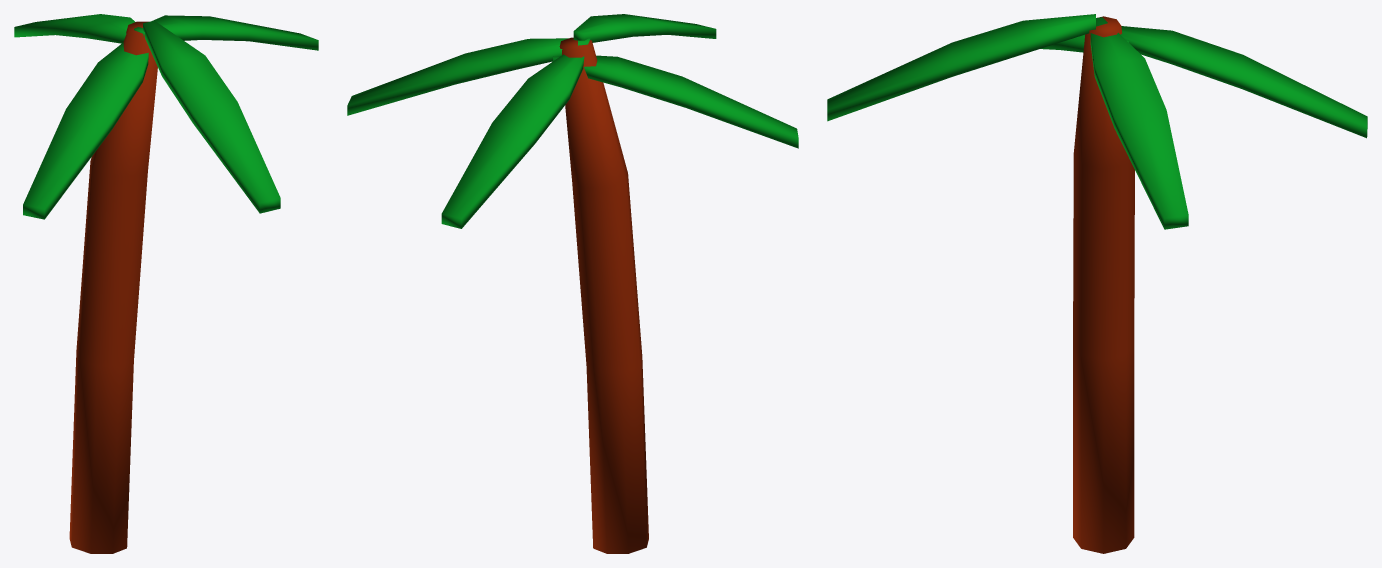
File: LandProp_PalmTree_SandBiom_01.fbx
The picture shows the model from 3 angles, left to right: view 1: azimuth 30°, elevation 25°; view 2: azimuth 150°, elevation 25°; view 3: azimuth 270°, elevation 25°; orthographic projection. The views are drawn at different scales.
Parts seen in each view (by area): view 1: Cube; view 2: Cube; view 3: Cube.
Boxes of the visible parts, left/top/right/bottom form: Cube: left=14, top=14, right=318, bottom=553; Cube: left=347, top=14, right=798, bottom=553; Cube: left=827, top=14, right=1367, bottom=553.
Bounding box in the file's own units: 385 × 502 × 449.
